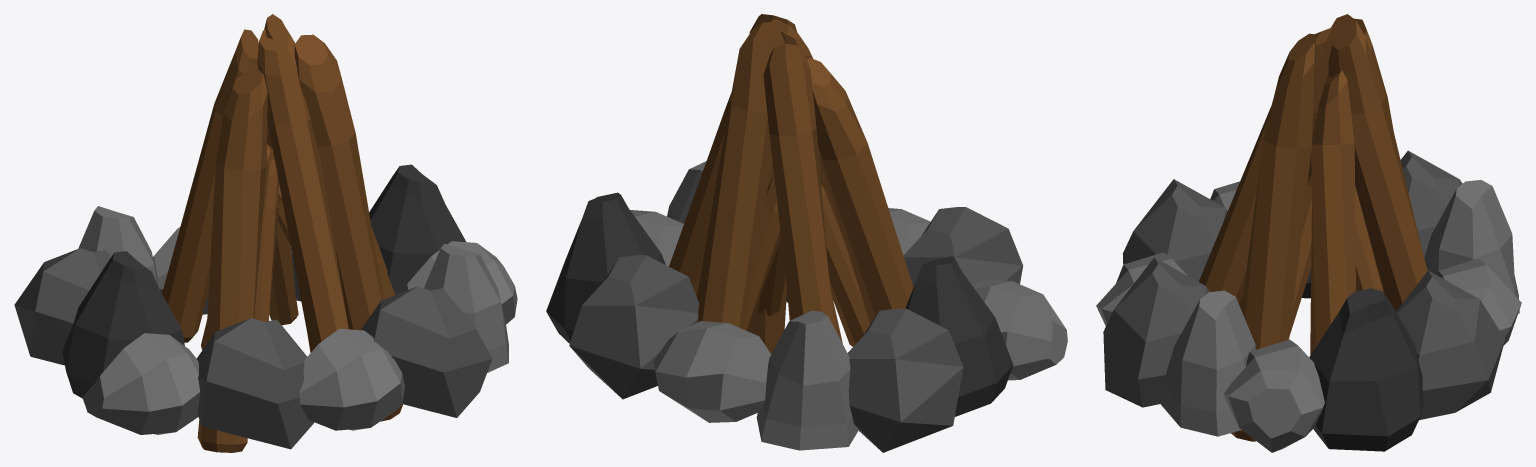
Rendered from F_Campfire.fbx.
3 renders of one model, left to right at view 1: azimuth 30°, elevation 25°; view 2: azimuth 150°, elevation 25°; view 3: azimuth 270°, elevation 25°, orthographic. The views are drawn at different scales.
Visible parts, largest first — view 1: F_Campfire; view 2: F_Campfire; view 3: F_Campfire.
Part boxes in pixels (bbox=[...]): F_Campfire: bbox=[14, 14, 517, 452]; F_Campfire: bbox=[546, 14, 1067, 452]; F_Campfire: bbox=[1096, 14, 1521, 452].
Size of the model in its own units: 116 by 96.23 by 94.94.
